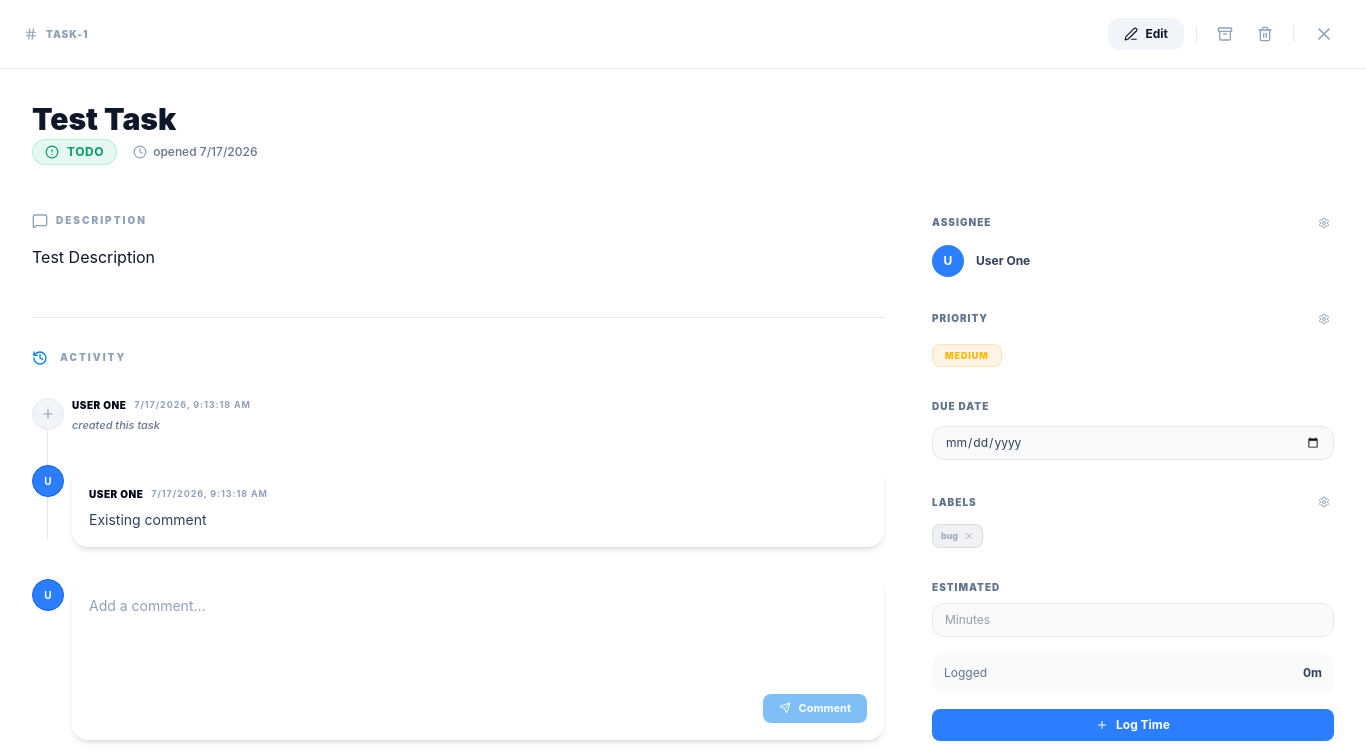
TaskViewer › Title Inline Editing › should cancel edit and return to read mode
Click the heading "Test Task".
click(104, 119)  # box [32,101,176,137]
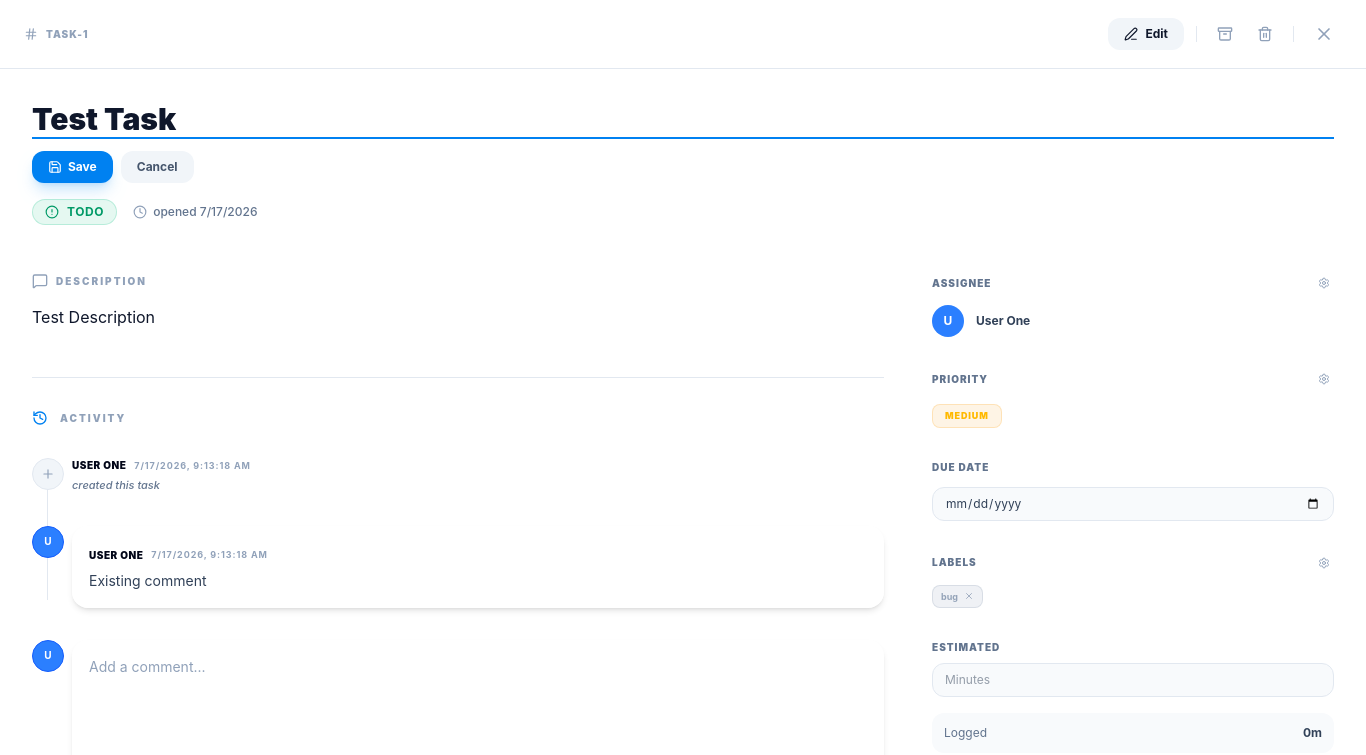
Click the button "Cancel".
click(157, 167)  # box [121,151,194,183]
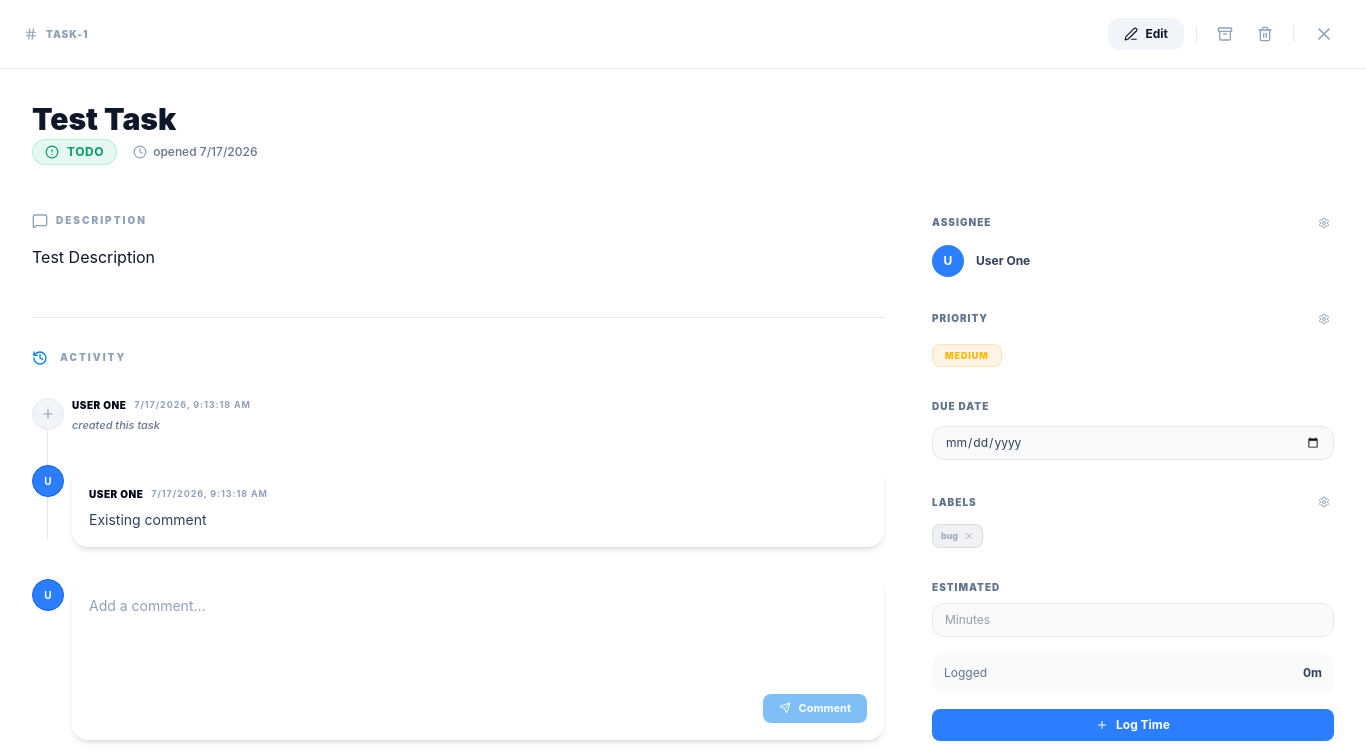
Check: the button "Save" is gone
Check: the button "Cancel" is gone
Check: the heading "Test Task" is shown, box [32,101,176,137]
